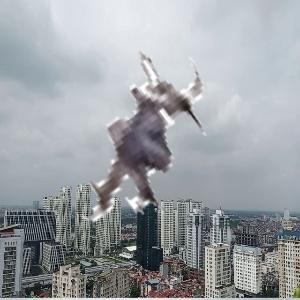drone: (27, 36, 235, 244)
